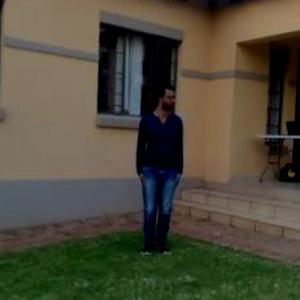follow: (133, 75, 191, 267)
